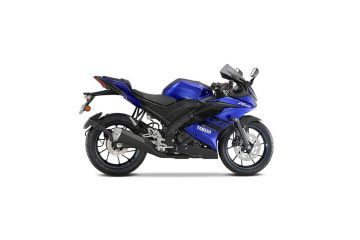bike: (79, 62, 276, 181)
